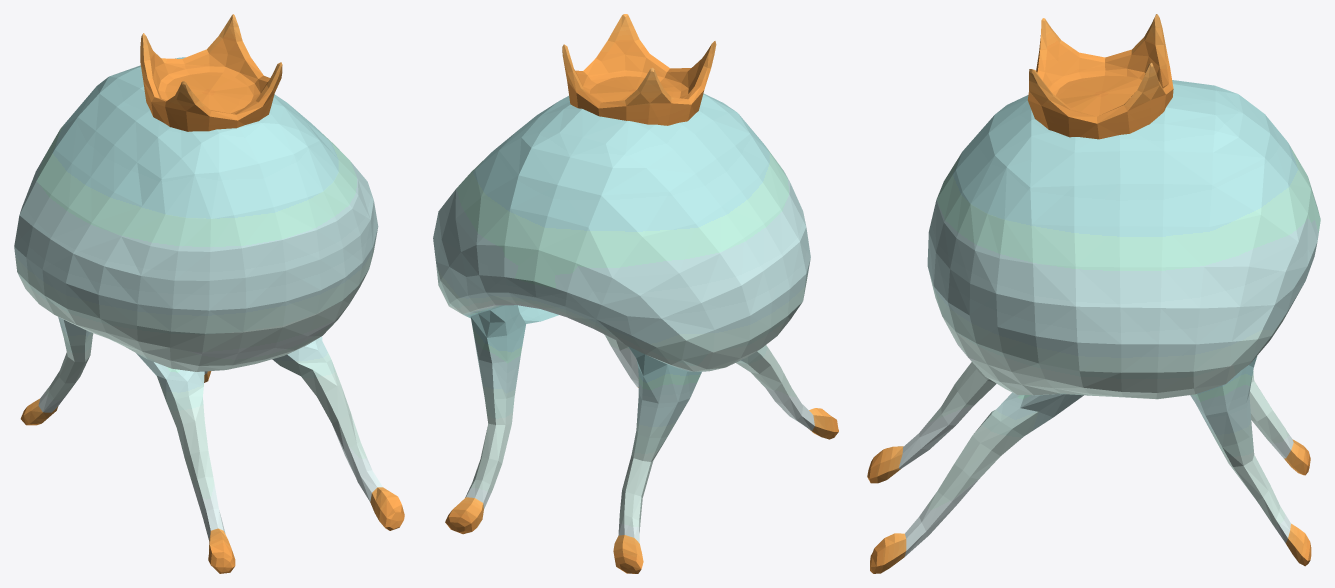
File: CharSkyKid_Hair_AP15Jellyfish_01.glb
The picture shows the model from 3 angles, left to right: view 1: azimuth 30°, elevation 25°; view 2: azimuth 150°, elevation 25°; view 3: azimuth 270°, elevation 25°; orthographic projection. The views are drawn at different scales.
Parts seen in each view (by area): view 1: CharSkyKid_Hair_AP15Jellyfish_01; view 2: CharSkyKid_Hair_AP15Jellyfish_01; view 3: CharSkyKid_Hair_AP15Jellyfish_01.
Part boxes in pixels (left/top/right/bottom): CharSkyKid_Hair_AP15Jellyfish_01: left=14, top=14, right=404, bottom=573; CharSkyKid_Hair_AP15Jellyfish_01: left=433, top=14, right=838, bottom=573; CharSkyKid_Hair_AP15Jellyfish_01: left=867, top=14, right=1320, bottom=573.
Size of the model in its own units: 4.3 by 5.68 by 4.75.
1 material, 1 textured.
